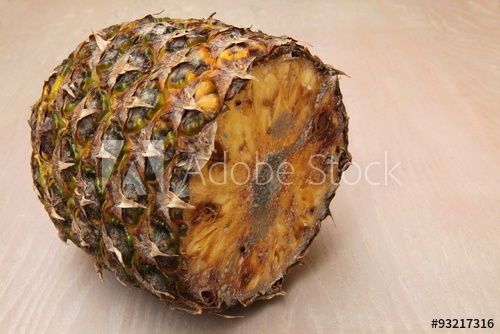damaged_pineapple: (41, 24, 335, 306)
